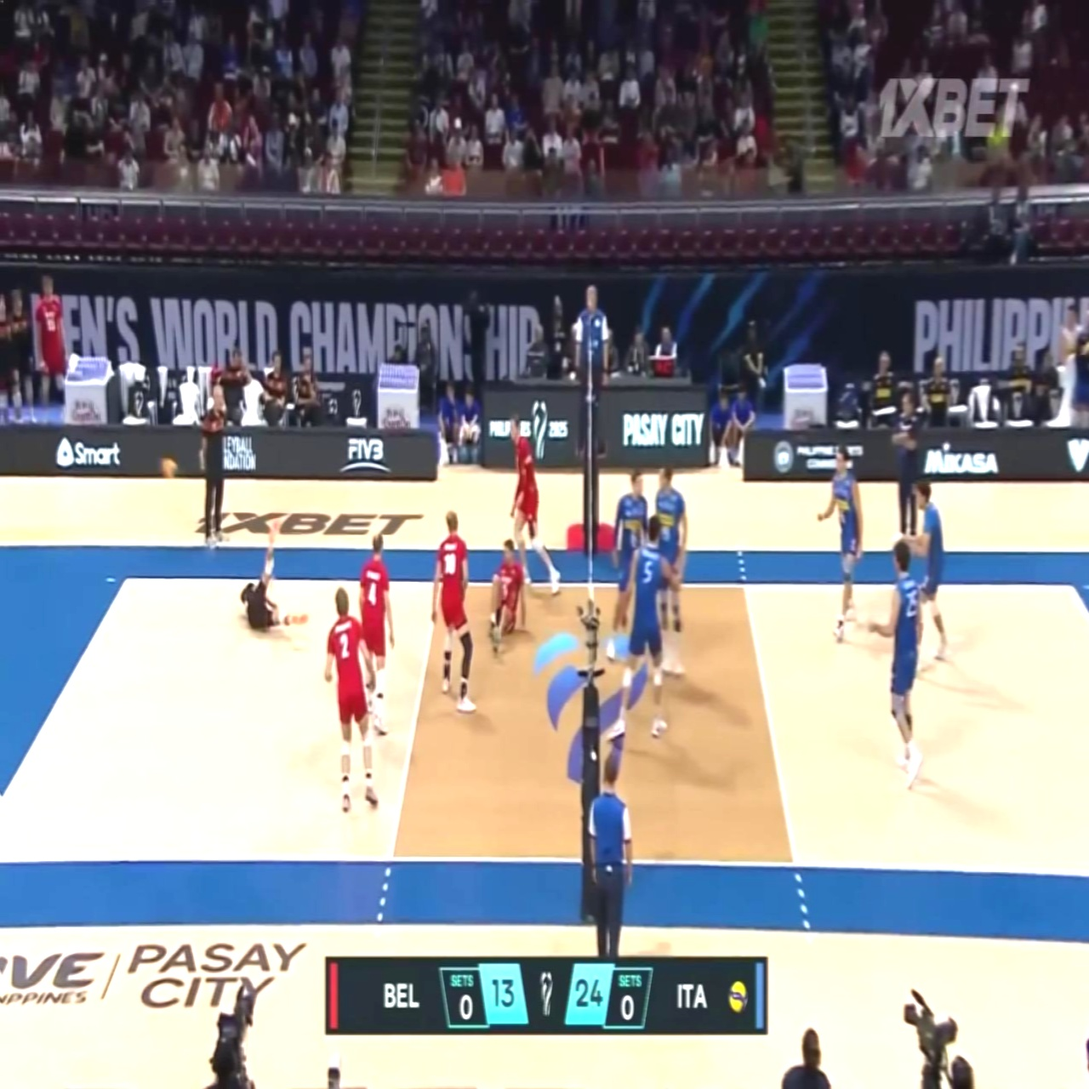ball: (161, 459, 176, 478)
